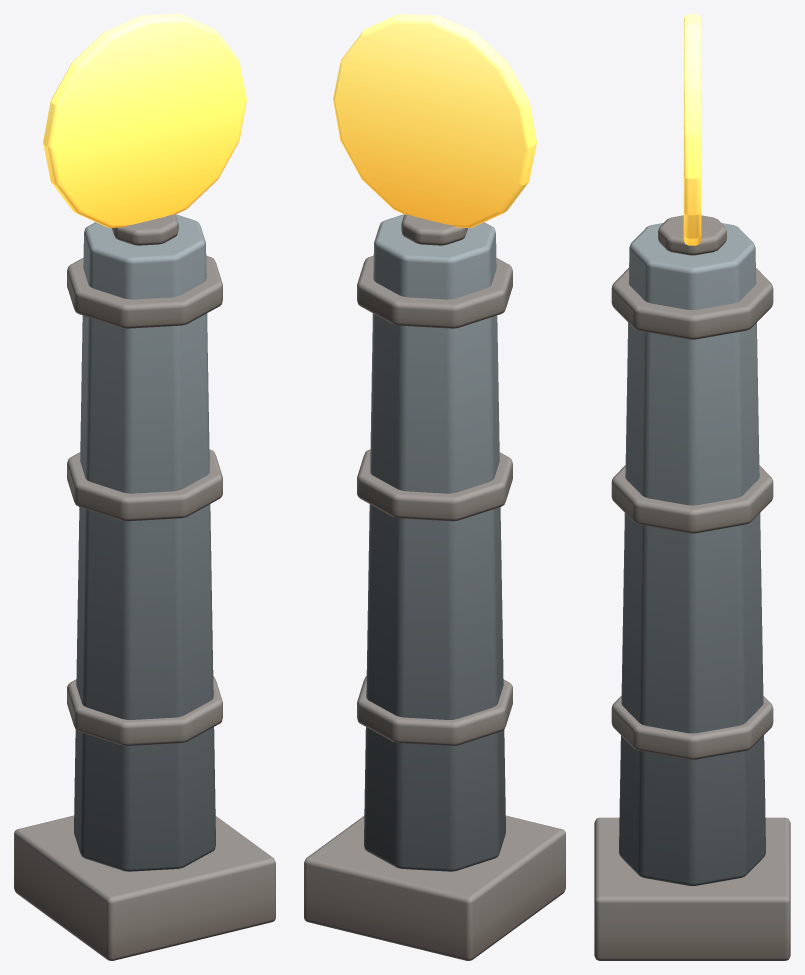
File: sun_pillar.glb
3 views of the same model, side by side, from view 1: azimuth 30°, elevation 25°; view 2: azimuth 150°, elevation 25°; view 3: azimuth 270°, elevation 25° (orthographic).
Parts seen in each view (by area): view 1: sun_pillar; view 2: sun_pillar; view 3: sun_pillar.
Boxes of the visible parts, x1=… form: sun_pillar: x1=14, y1=14, x2=275, y2=960; sun_pillar: x1=304, y1=14, x2=565, y2=960; sun_pillar: x1=594, y1=14, x2=790, y2=960.
Bounding box in the file's own units: 1.3 × 5.55 × 1.1.
Materials: 2 (2 with a texture image).
